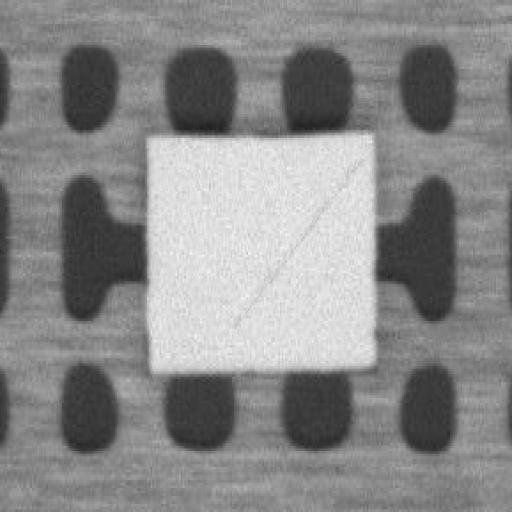DIE_CRACK: (347, 105, 512, 216)
